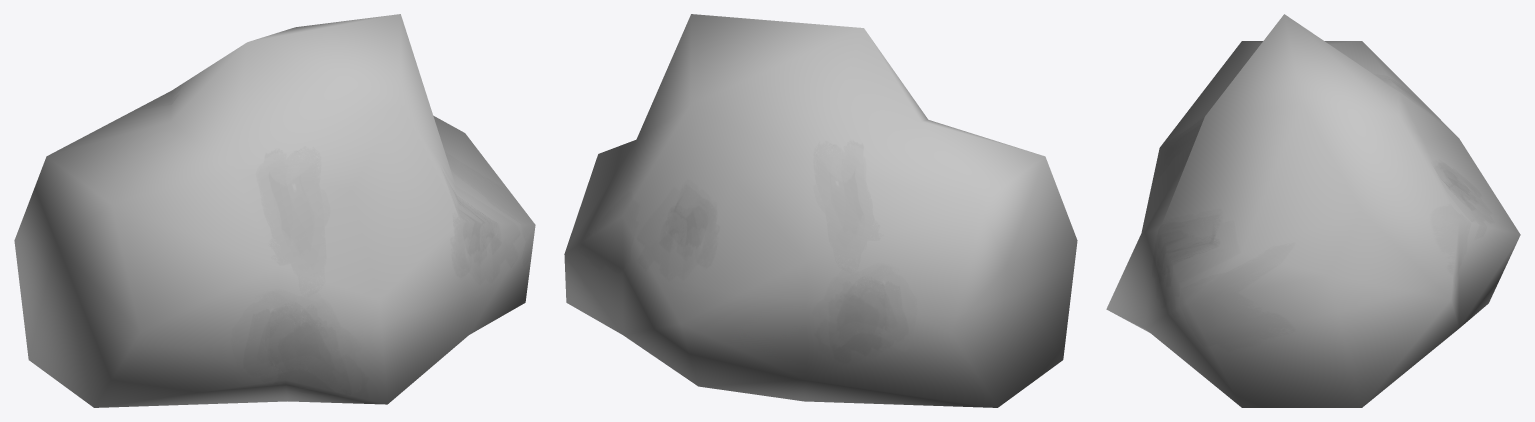
The model's file is ROCK003.fbx.
3 renders of one model, left to right at view 1: azimuth 30°, elevation 25°; view 2: azimuth 150°, elevation 25°; view 3: azimuth 270°, elevation 25°, orthographic. The views are drawn at different scales.
Parts seen in each view (by area): view 1: pSolid1; view 2: pSolid1; view 3: pSolid1.
Part boxes in pixels (<box>): pSolid1: <box>14,14,535,407</box>; pSolid1: <box>564,14,1077,407</box>; pSolid1: <box>1106,14,1520,407</box>.
Bounding box in the file's own units: 2.08 × 1.54 × 1.89.
1 material, 1 textured.
